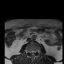CCS_stenosis: (32, 49, 33, 56)
LFS_stenosis: (35, 49, 37, 54)
LLS_normal: (33, 49, 35, 55)
RFS_stenosis: (28, 49, 30, 54)
RLS_normal: (30, 49, 32, 55)
